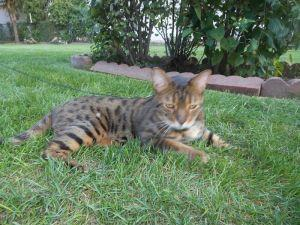bengal: (150, 65, 212, 136)
